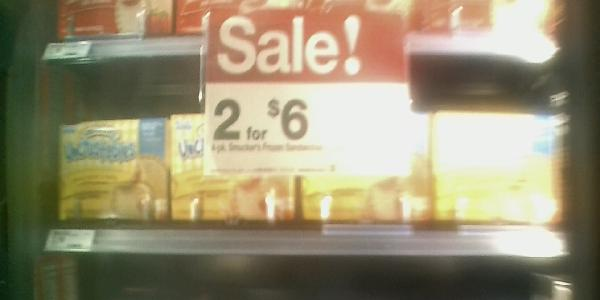icecream: (163, 104, 304, 230), (429, 107, 561, 233), (54, 111, 175, 236), (307, 115, 430, 237)
